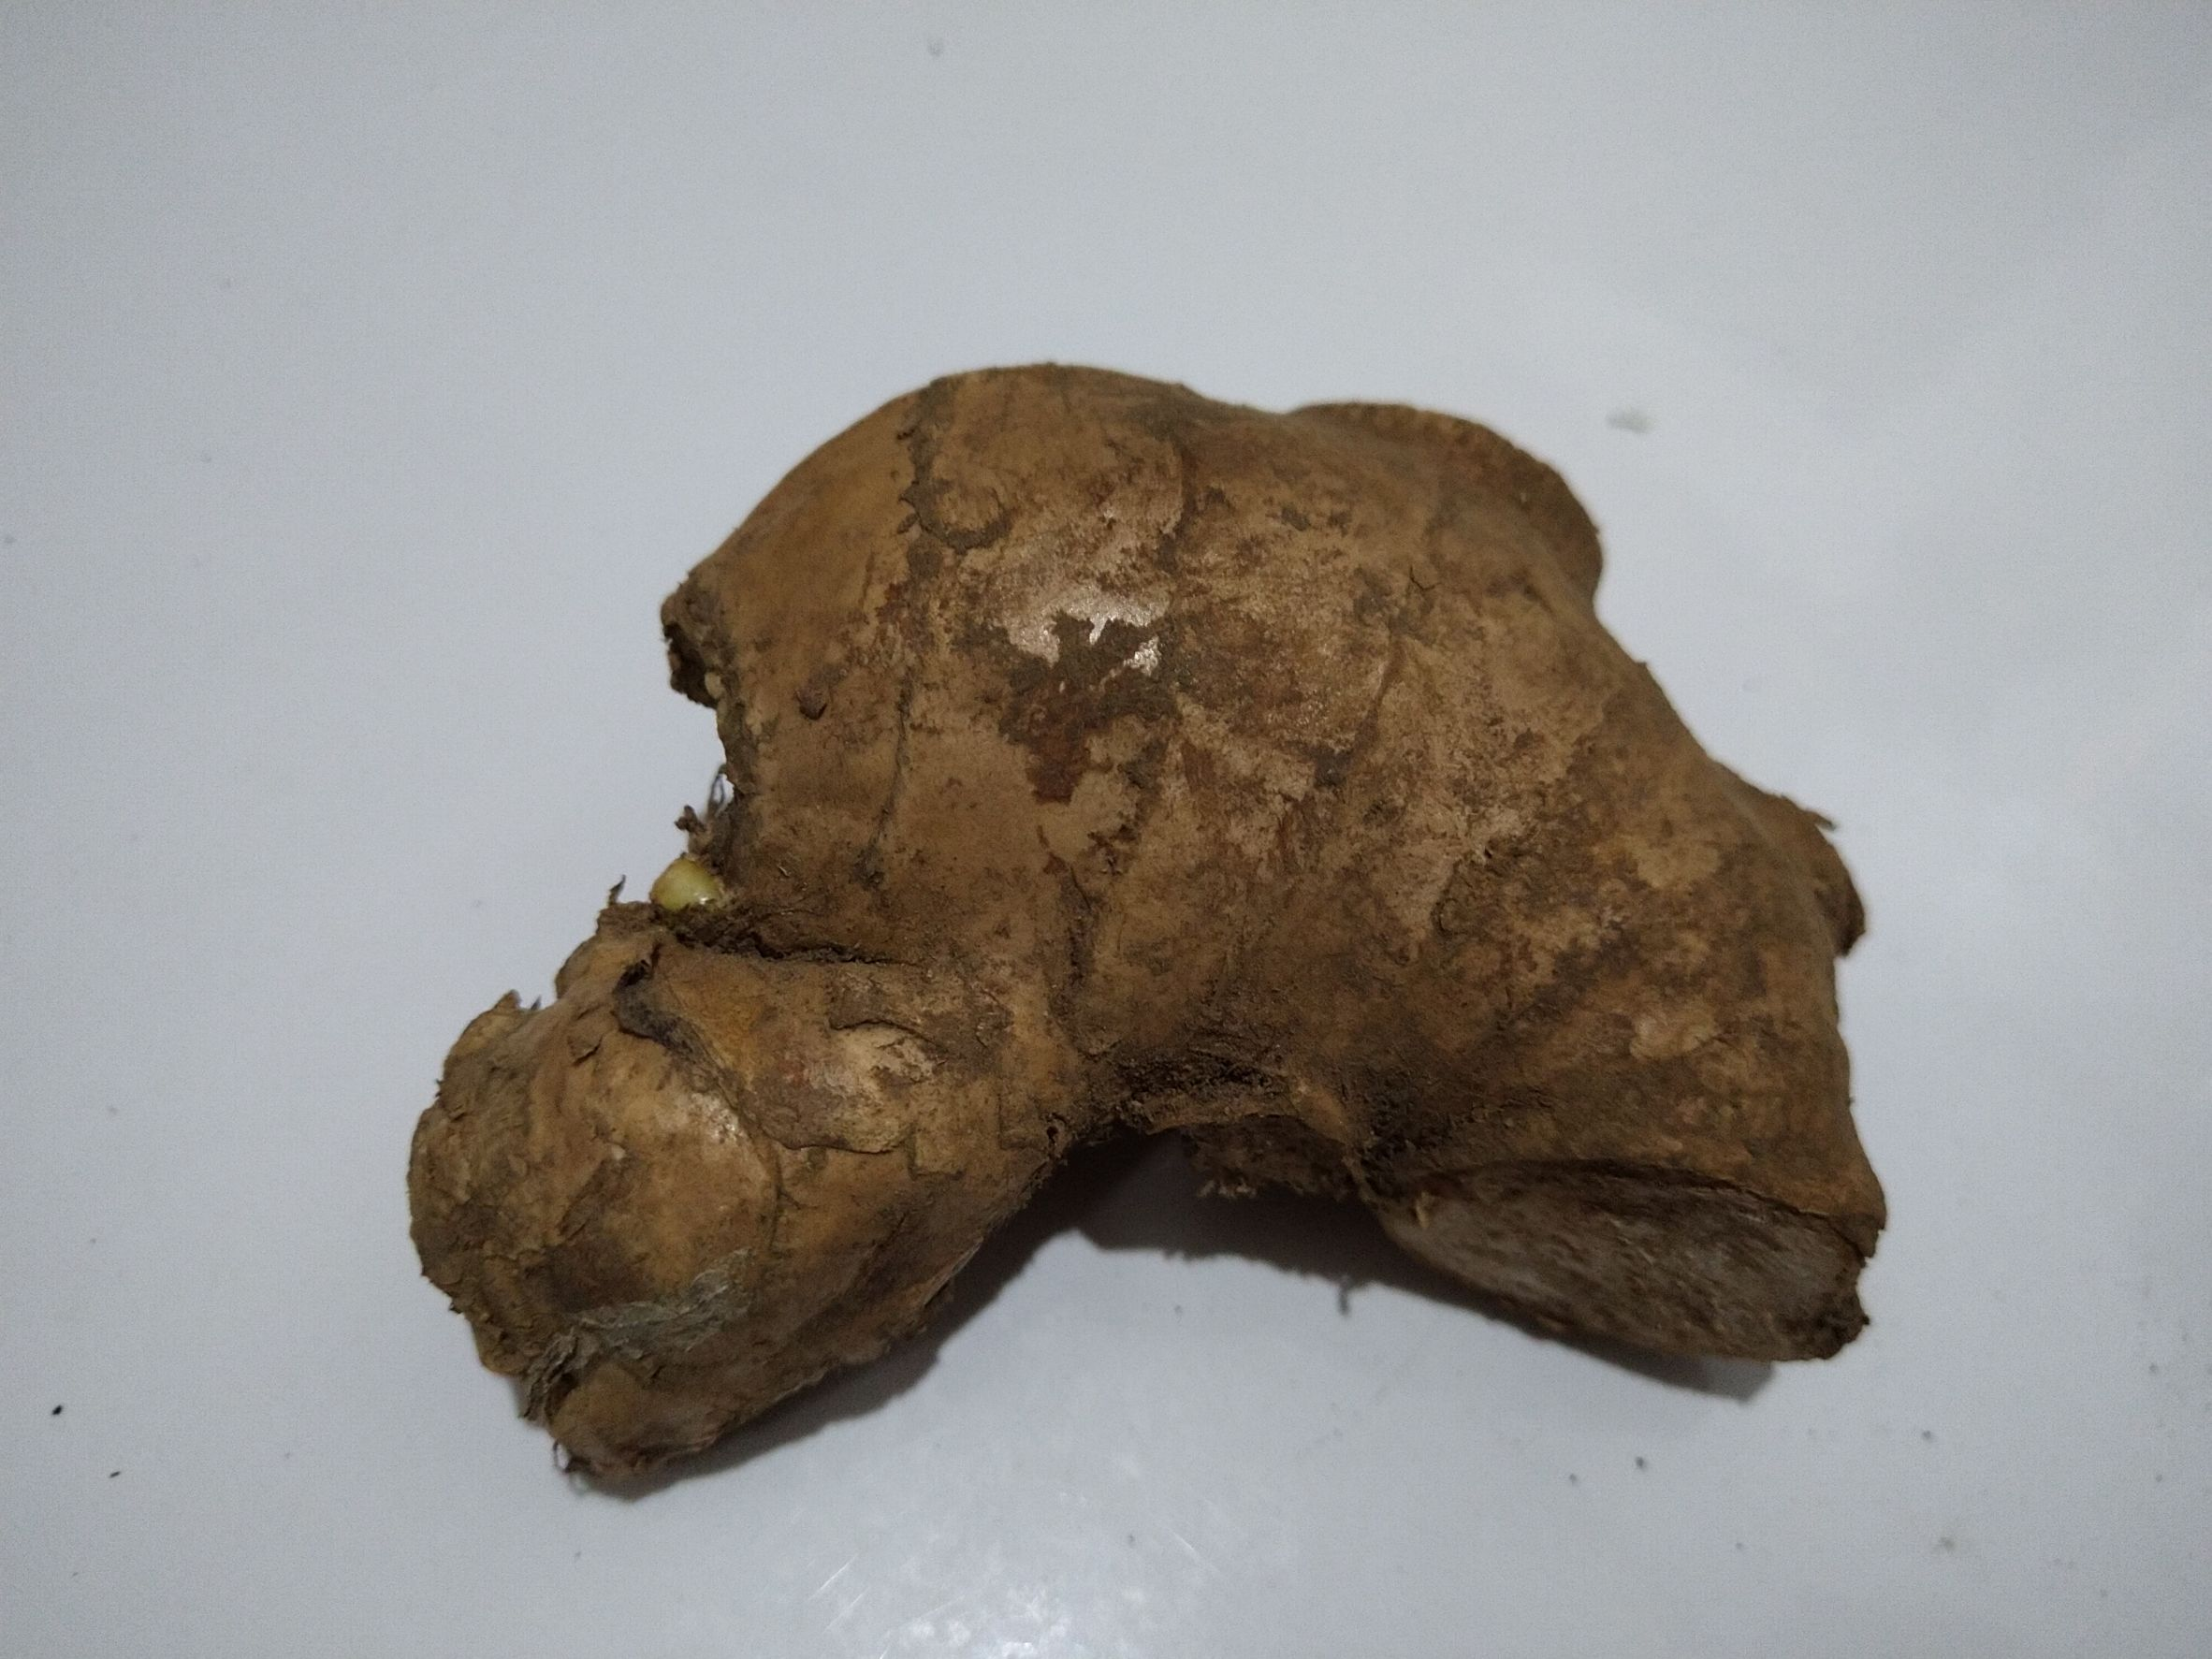Jahe: (465, 349, 1883, 1492)
